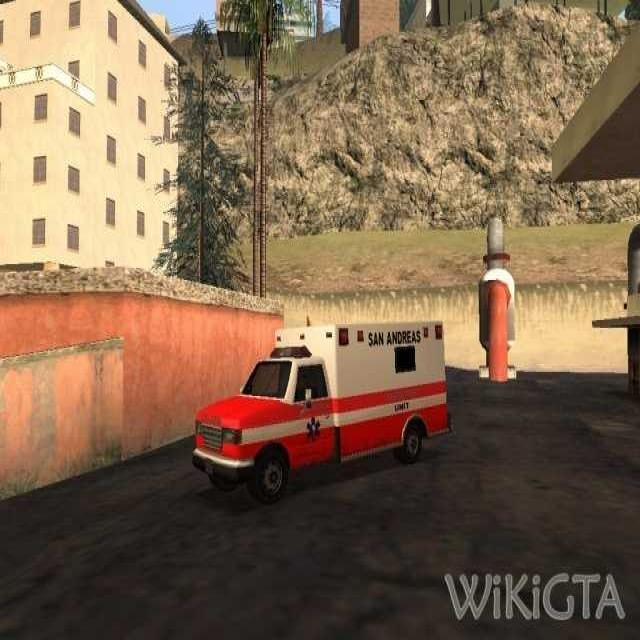emergency-vehicle: (188, 318, 453, 494)
